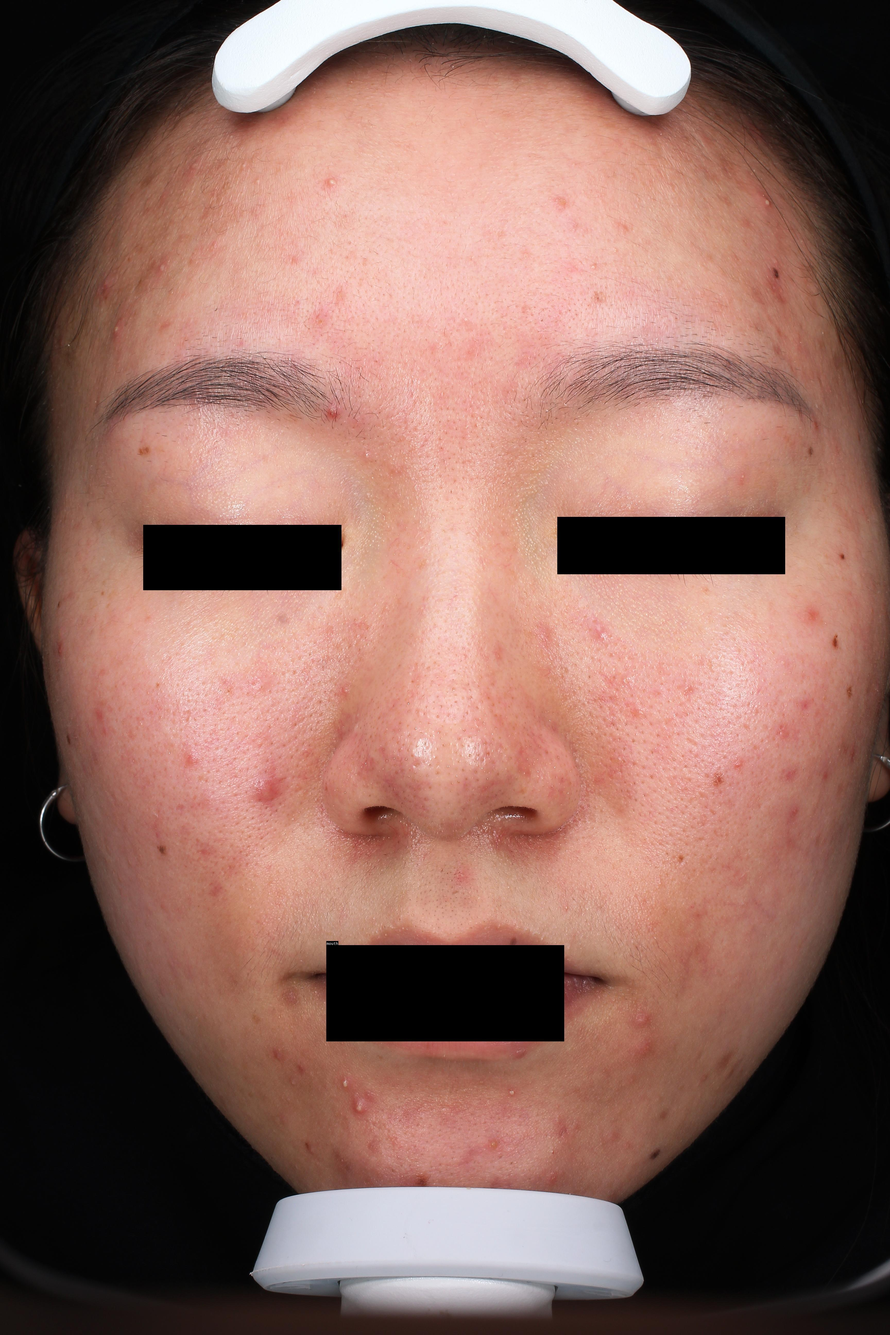atrophic_scar: (717, 1047, 738, 1074), (409, 757, 425, 771), (684, 736, 700, 749), (175, 804, 187, 817), (681, 685, 694, 697), (195, 848, 212, 857), (698, 790, 709, 801), (559, 1126, 569, 1138), (741, 722, 752, 732), (677, 854, 685, 866), (127, 728, 135, 740), (520, 304, 529, 314), (708, 808, 717, 817), (185, 712, 192, 722), (451, 890, 461, 896), (362, 257, 368, 267), (183, 709, 190, 715)
closed_comedo: (360, 449, 374, 461), (460, 314, 472, 327), (436, 340, 446, 353), (253, 177, 262, 185), (289, 1079, 297, 1087), (240, 162, 247, 168), (612, 246, 618, 253), (657, 881, 663, 886), (564, 905, 569, 910)
hypertrophic_scar: (585, 616, 601, 631)
melasma: (106, 588, 120, 608), (334, 587, 348, 601), (697, 585, 712, 596), (138, 446, 152, 456), (418, 559, 427, 569), (101, 590, 106, 596)
nevus: (713, 769, 725, 787), (647, 1148, 662, 1161), (771, 266, 781, 280), (510, 935, 520, 947), (157, 845, 168, 855), (805, 446, 814, 458), (846, 684, 853, 699), (832, 634, 839, 648), (66, 734, 71, 744), (839, 553, 845, 560), (57, 601, 60, 608)
open_comedo: (397, 917, 402, 922), (382, 925, 387, 929), (406, 910, 409, 914), (396, 912, 399, 916), (409, 898, 412, 901)
other: (272, 611, 294, 626)
papule: (627, 1036, 656, 1061), (254, 777, 280, 802), (631, 1009, 653, 1028), (534, 624, 553, 645), (622, 670, 639, 687), (283, 988, 299, 1005), (553, 195, 567, 213), (101, 276, 112, 298), (802, 609, 818, 624), (513, 1047, 530, 1061), (247, 677, 263, 691), (188, 160, 202, 173), (303, 1142, 316, 1156), (631, 704, 644, 716), (788, 805, 800, 817), (779, 728, 790, 741), (733, 757, 744, 769), (313, 315, 325, 326), (185, 755, 198, 764), (547, 1173, 557, 1184), (597, 630, 607, 639), (699, 1074, 709, 1083), (341, 685, 350, 694), (57, 643, 63, 655), (619, 225, 628, 233), (274, 1052, 281, 1062), (58, 338, 63, 347), (298, 1064, 303, 1071), (851, 750, 854, 756)
pustule: (350, 1095, 369, 1115), (754, 192, 775, 209), (326, 402, 340, 419), (113, 318, 124, 336), (487, 1138, 501, 1150), (339, 1077, 351, 1090), (156, 261, 168, 273), (324, 177, 337, 187), (506, 1088, 519, 1098), (590, 263, 598, 270), (741, 474, 745, 480)
